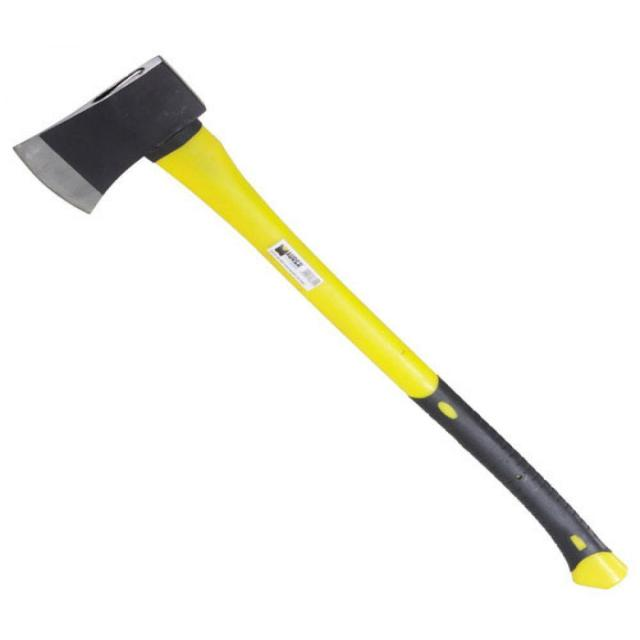Kapak: (39, 47, 610, 549)
